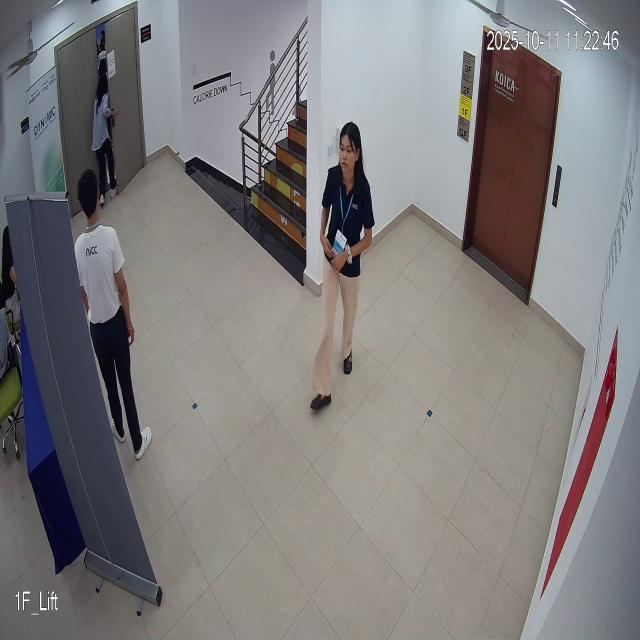face: (332, 106, 366, 186)
